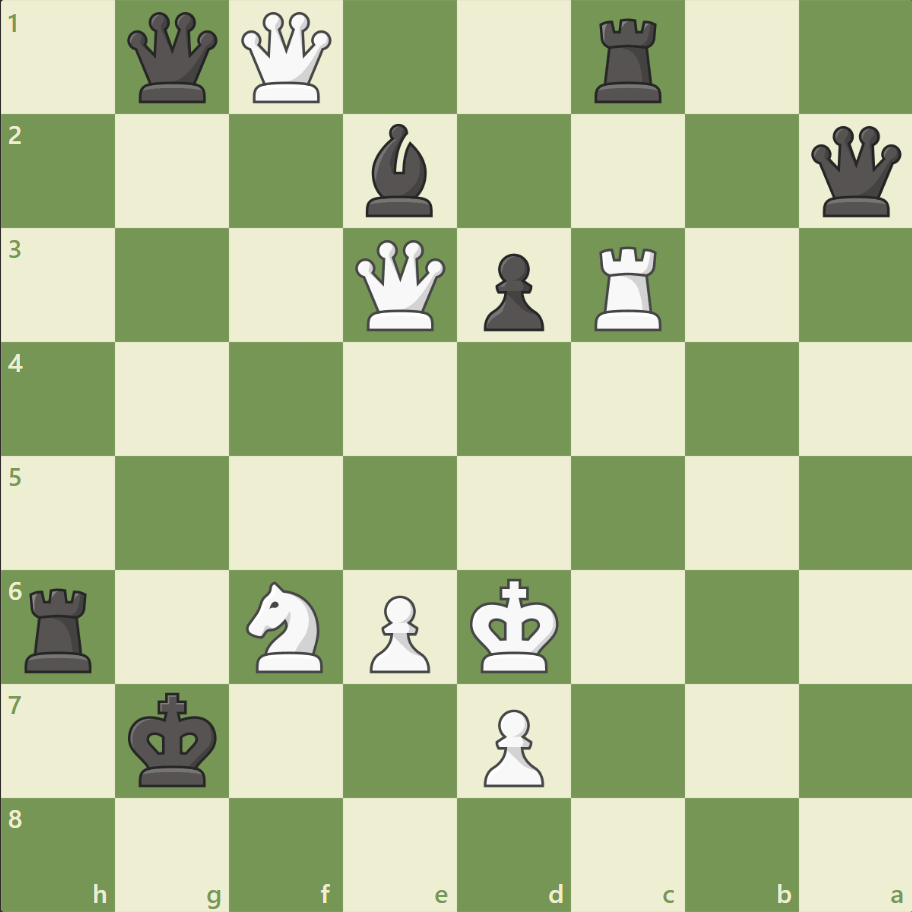K: (465, 571, 565, 679)
N: (238, 575, 335, 677)
P: (474, 700, 549, 791), (361, 586, 435, 677)
Q: (351, 236, 450, 335), (237, 9, 336, 108)
R: (587, 239, 670, 336)
b: (358, 120, 442, 222)
k: (124, 685, 224, 793)
p: (474, 246, 549, 337)
q: (805, 122, 904, 222), (124, 9, 223, 108)
r: (19, 579, 102, 676), (587, 12, 670, 109)
